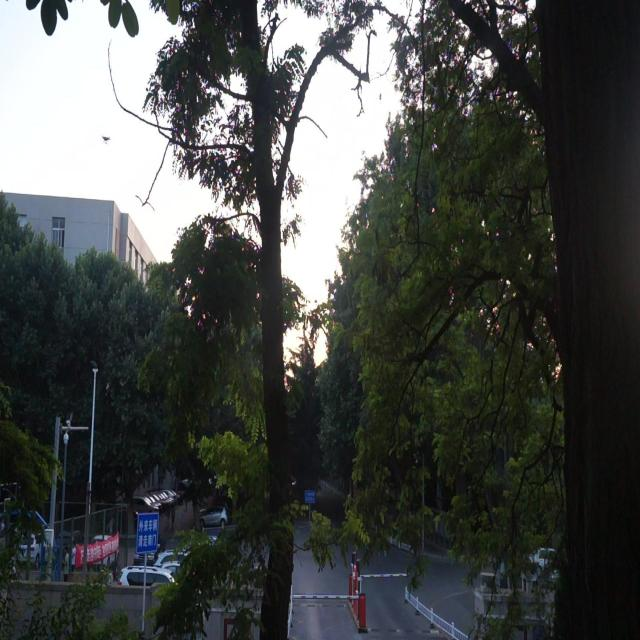drone: (98, 132, 112, 148)
